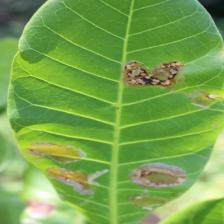leaf miner: (24, 140, 104, 196), (124, 159, 194, 210), (122, 57, 189, 93)
